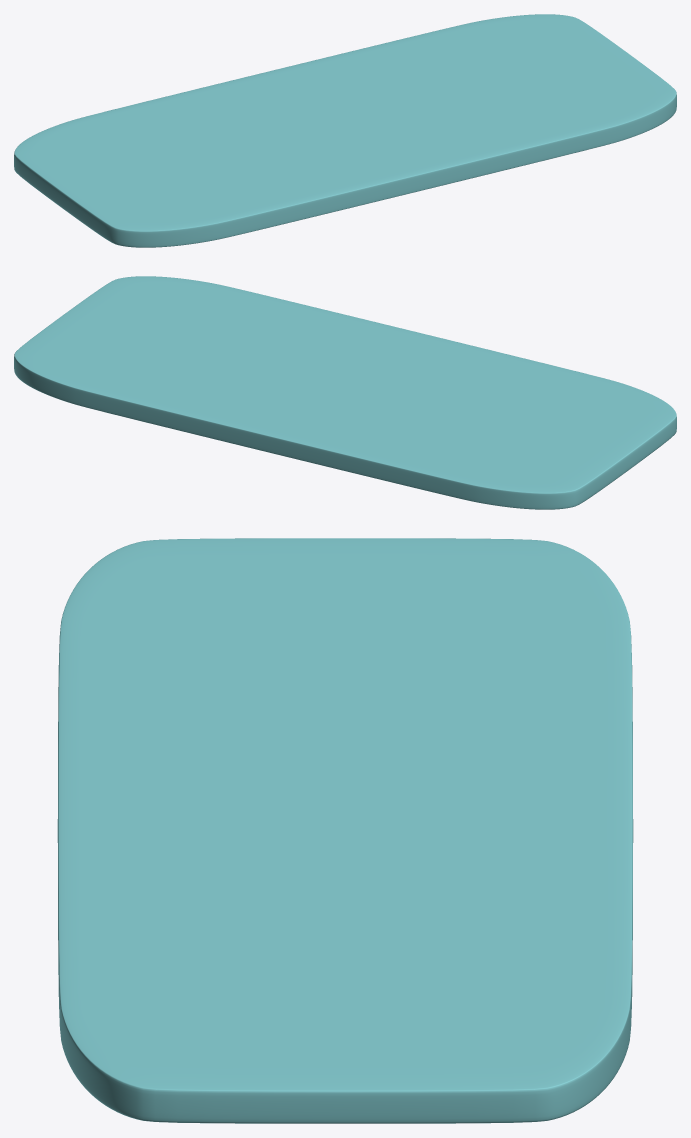
The model's file is start_button.fbx.
3 renders of one model, top to bottom at view 1: azimuth 30°, elevation 25°; view 2: azimuth 150°, elevation 25°; view 3: azimuth 270°, elevation 25°, orthographic. The views are drawn at different scales.
Visible parts, largest first — view 1: 立方体.001; view 2: 立方体.001; view 3: 立方体.001.
Part boxes in pixels (box(x1,y1,x2,y2)): 立方体.001: box(14, 14, 676, 247); 立方体.001: box(14, 276, 676, 509); 立方体.001: box(57, 538, 633, 1123).
Bounding box in the file's own units: 341 × 10.14 × 150.
